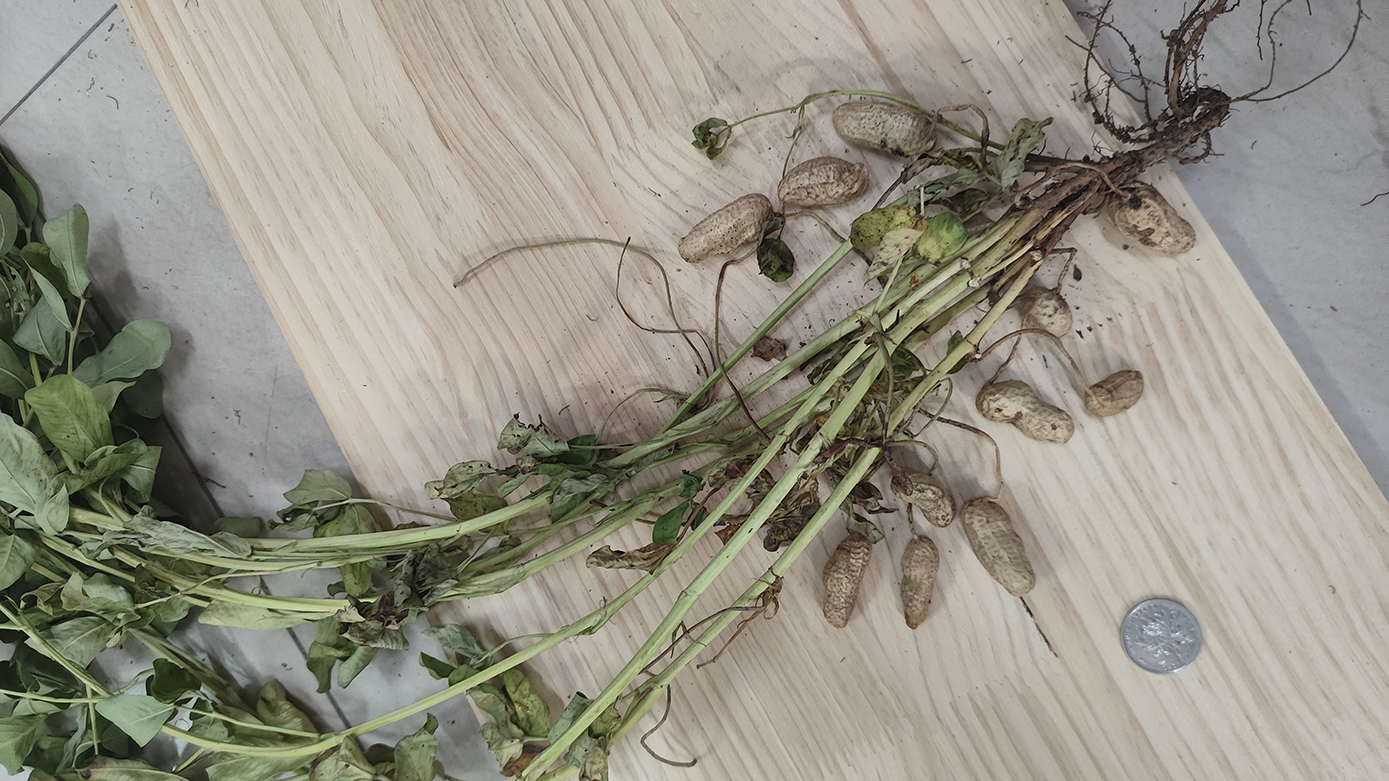h: (961, 496, 1036, 597), (678, 192, 771, 263), (976, 380, 1074, 445), (833, 100, 940, 159), (1112, 182, 1196, 253), (820, 533, 872, 629), (776, 156, 869, 207), (892, 469, 956, 527), (900, 537, 939, 630), (1085, 369, 1145, 415), (1021, 287, 1075, 337)
